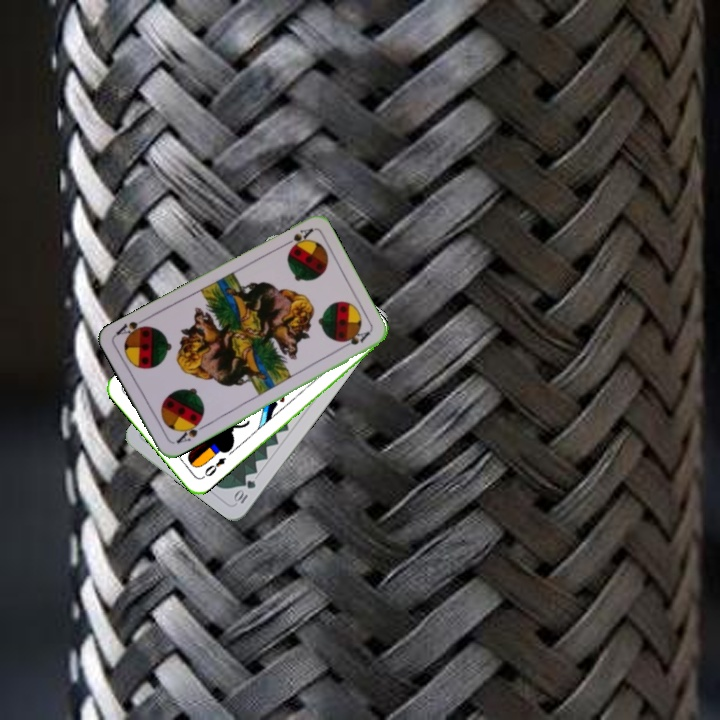EO: (200, 453, 229, 479)
G10: (230, 476, 258, 506)
SA: (172, 416, 208, 446), (278, 224, 316, 252)
